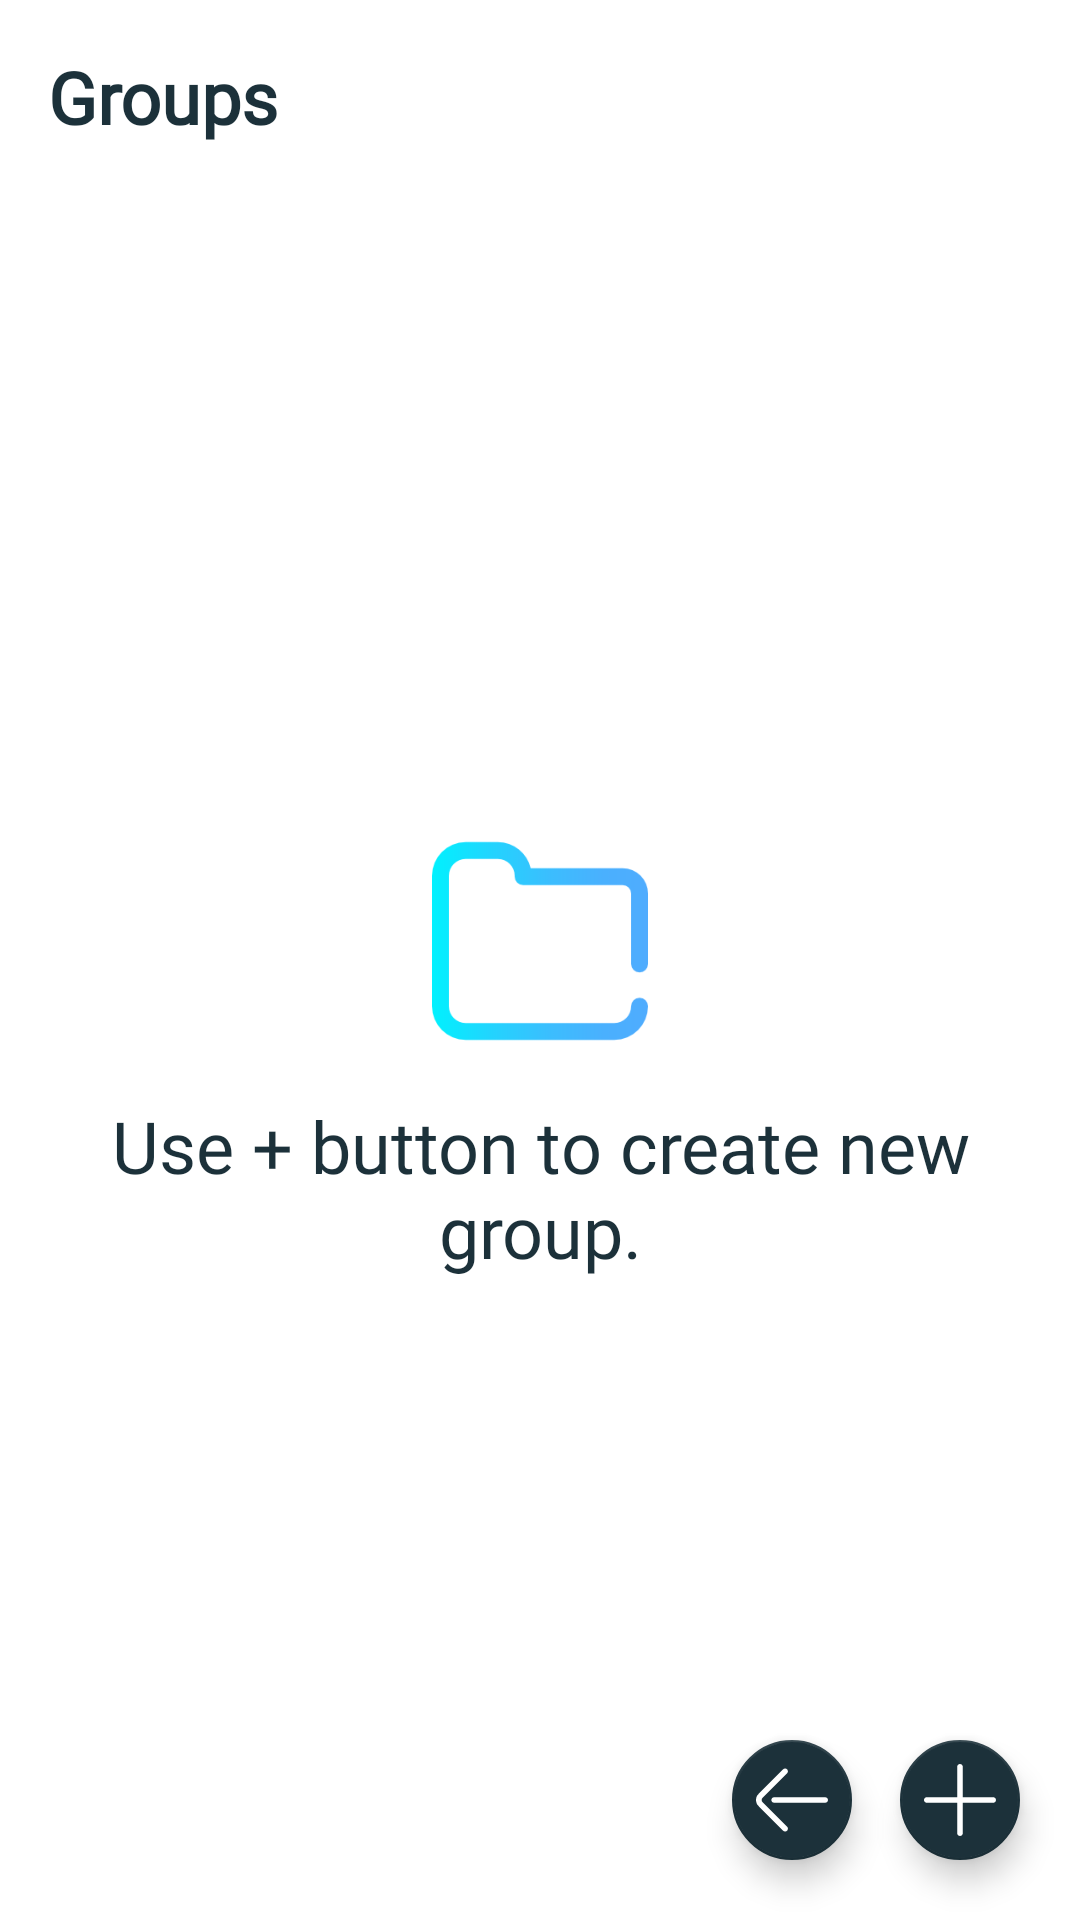

Point at icon controls on the screen. Image size 1080px x 1920px, points as (x=x, y=y).
add: (x=961, y=1806)
arrow back: (x=792, y=1806)
empty folder: (x=540, y=941)
